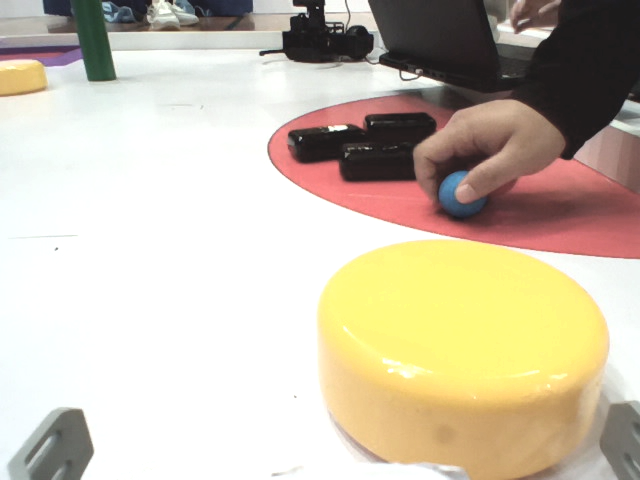black: (331, 137, 465, 182), (266, 120, 380, 165), (357, 111, 458, 150)
blue: (429, 169, 502, 218)
kuang: (1, 36, 88, 68)
yellow: (315, 239, 612, 480), (1, 54, 53, 98)
zhuzi: (54, 1, 123, 85)
